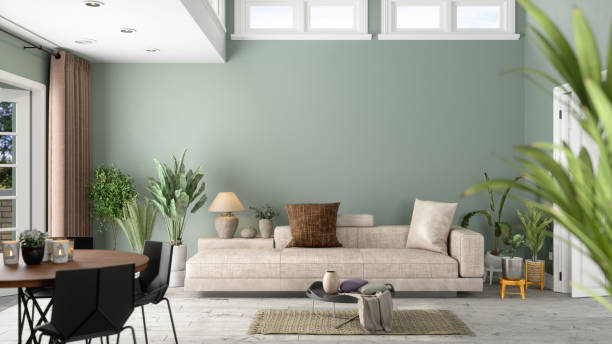dining table set: (0, 227, 180, 344)
large plant: (518, 8, 612, 340), (148, 151, 207, 285), (89, 163, 128, 250), (117, 195, 155, 248)
small plant: (474, 174, 515, 265), (519, 206, 548, 280), (502, 235, 525, 281), (256, 200, 277, 237)
sofa: (181, 197, 487, 298)
table: (306, 276, 397, 331)
table lamp: (208, 188, 246, 240)
